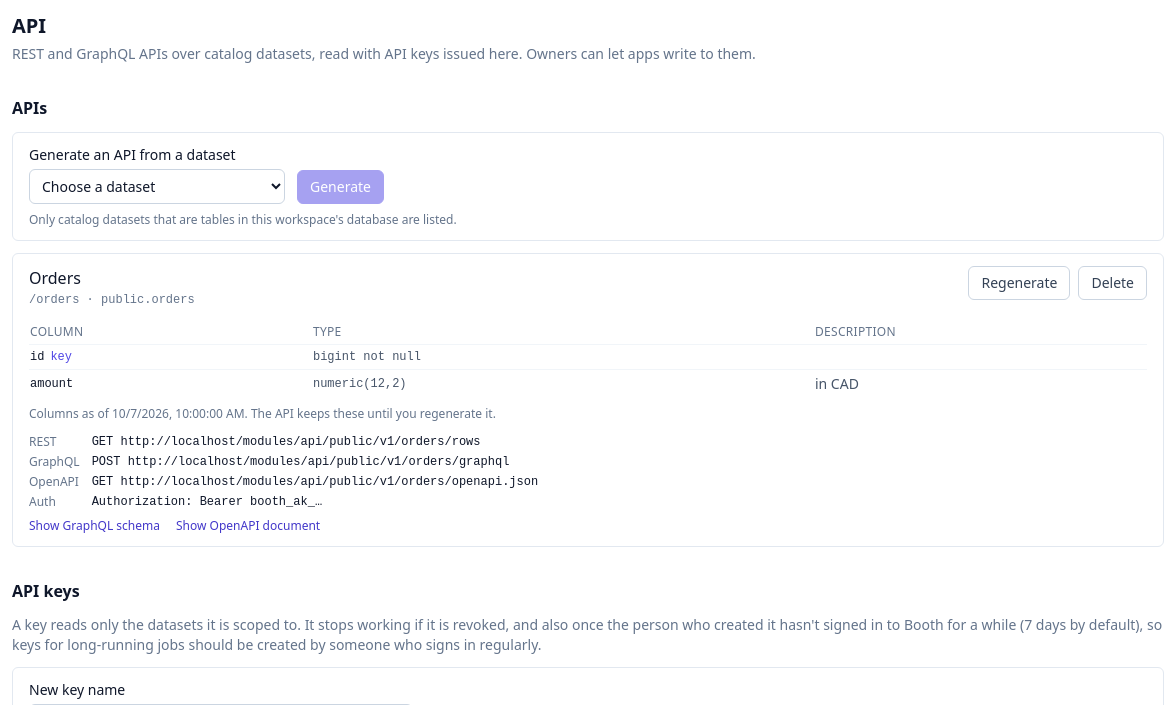
Test case: ApiApp › offers only postgres datasets without an API, and shows a catalog/table mismatch
This screenshot has width=1176, height=705.
Step 1. Select "Customers" in the dropdown → (157, 186), box [29,169,285,204]
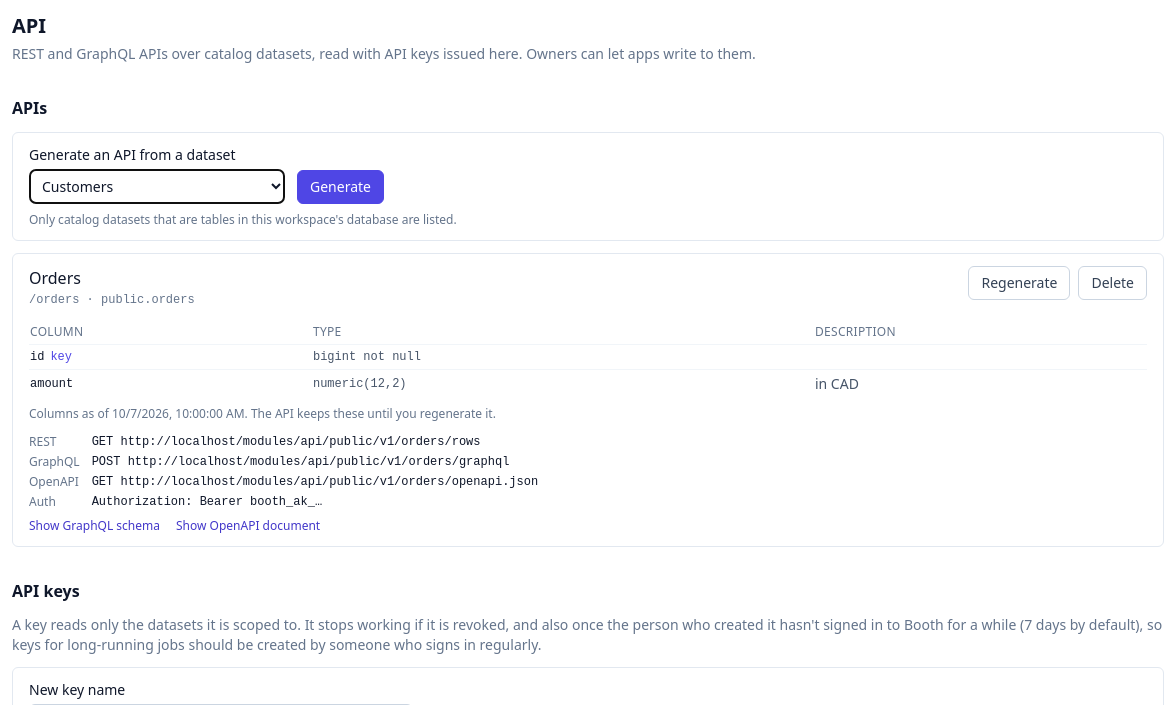
Step 2. Click the button "Generate" → (340, 187), box [297,170,384,204]
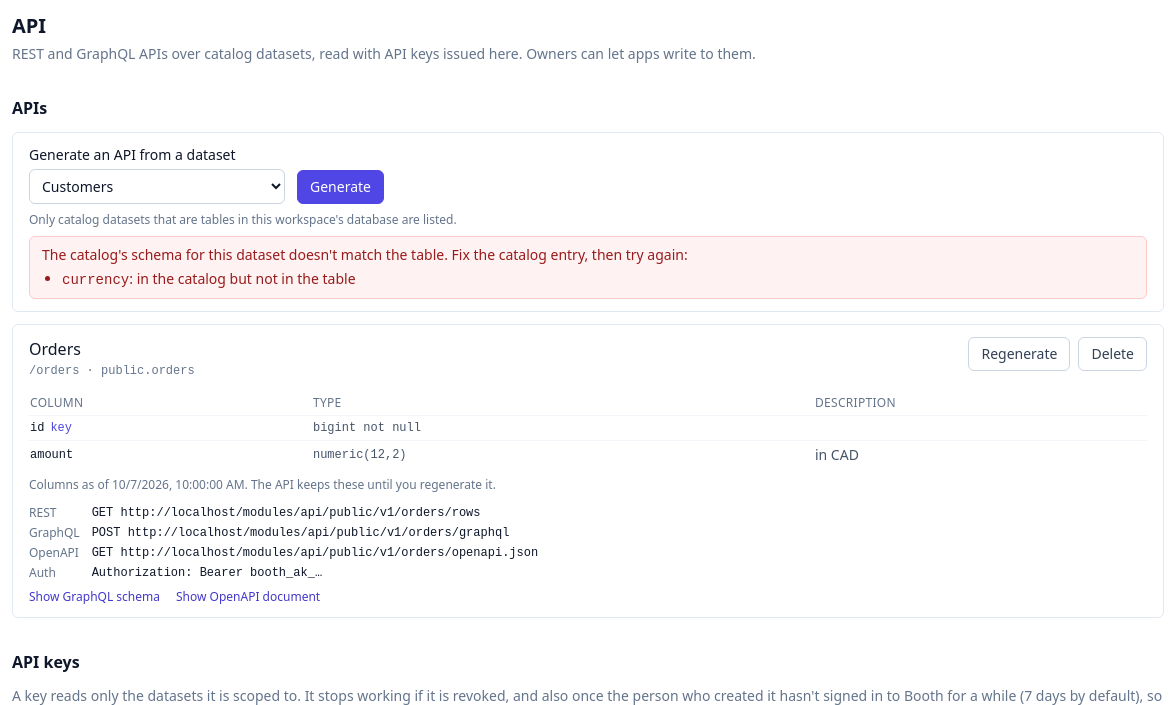
Now the text "currency" is shown, box [62,272,129,288]
